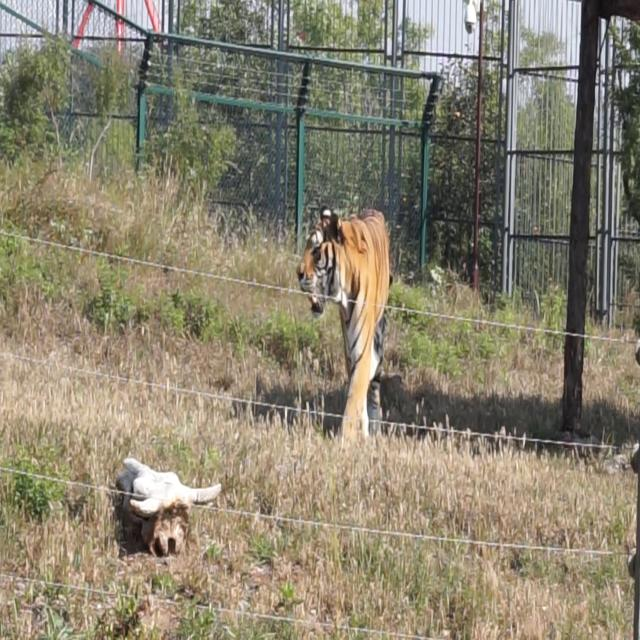Tiger: (290, 167, 401, 478)
